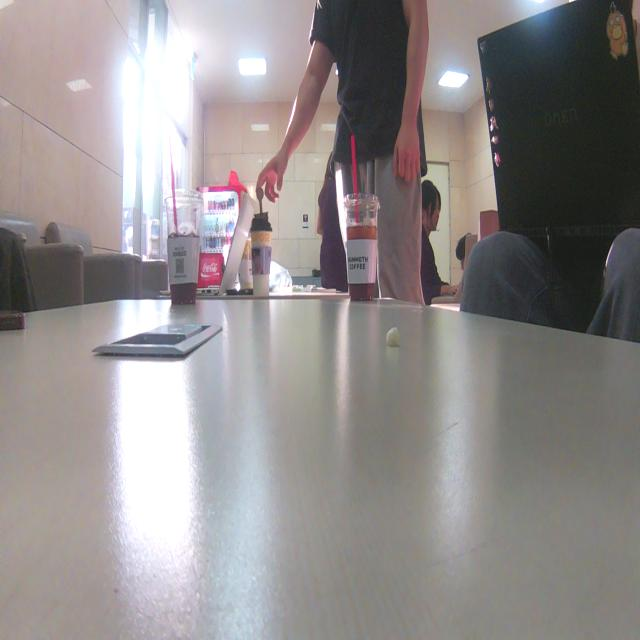target: (256, 186, 264, 215)
